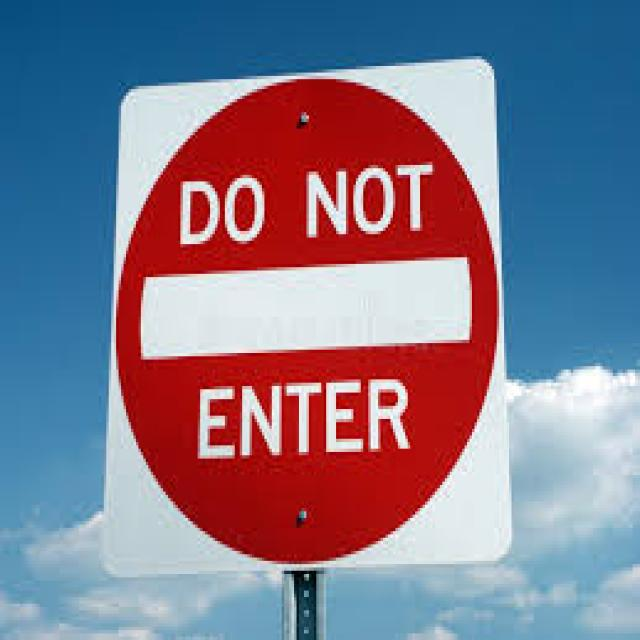doNotEnter: (110, 58, 502, 567)
